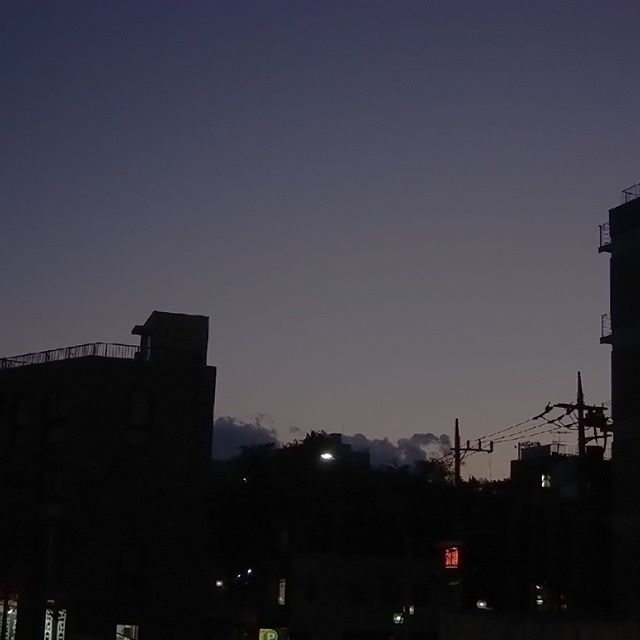building: (1, 333, 223, 640), (593, 204, 640, 640)
sky: (1, 1, 597, 404)
